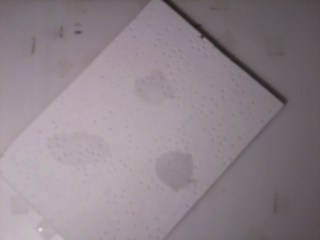Water_detected: (132, 74, 170, 112), (159, 150, 194, 188), (67, 138, 110, 166)
